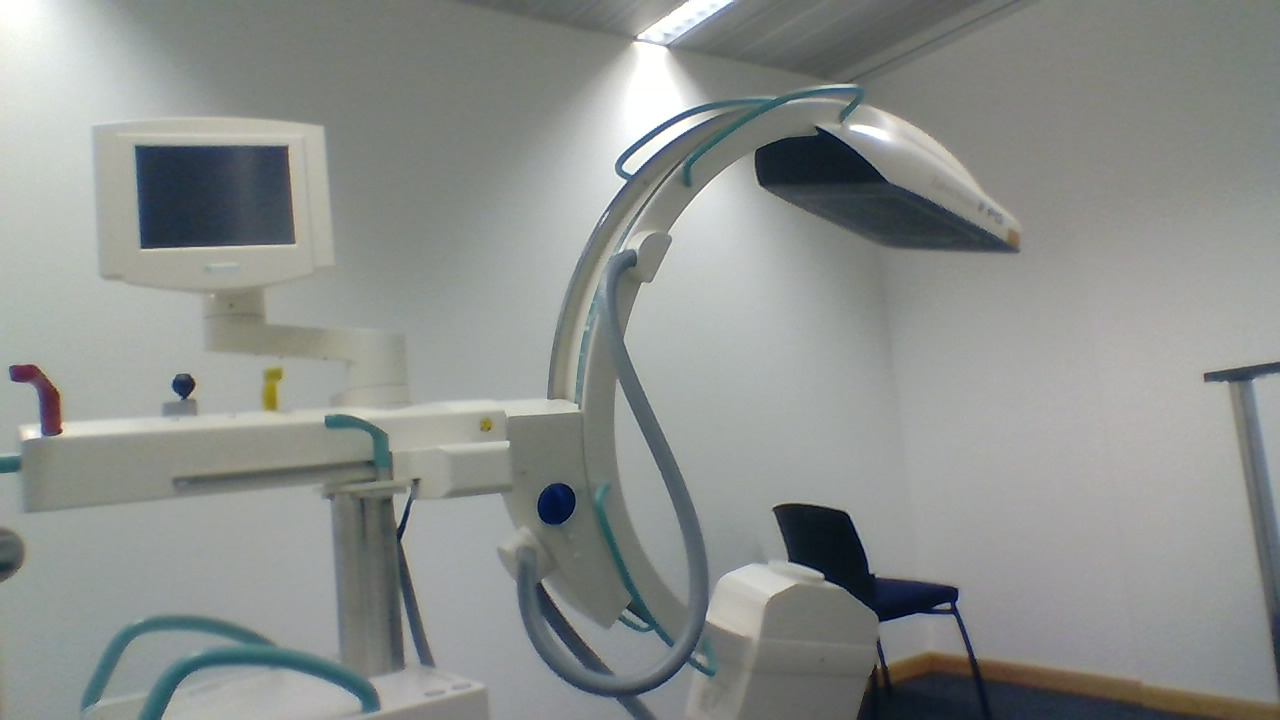carmDOWN: (702, 557, 879, 650)
carmLOCK: (535, 481, 578, 527)
carmSCREEN: (88, 115, 339, 294)
carmUP: (754, 95, 1025, 257)
